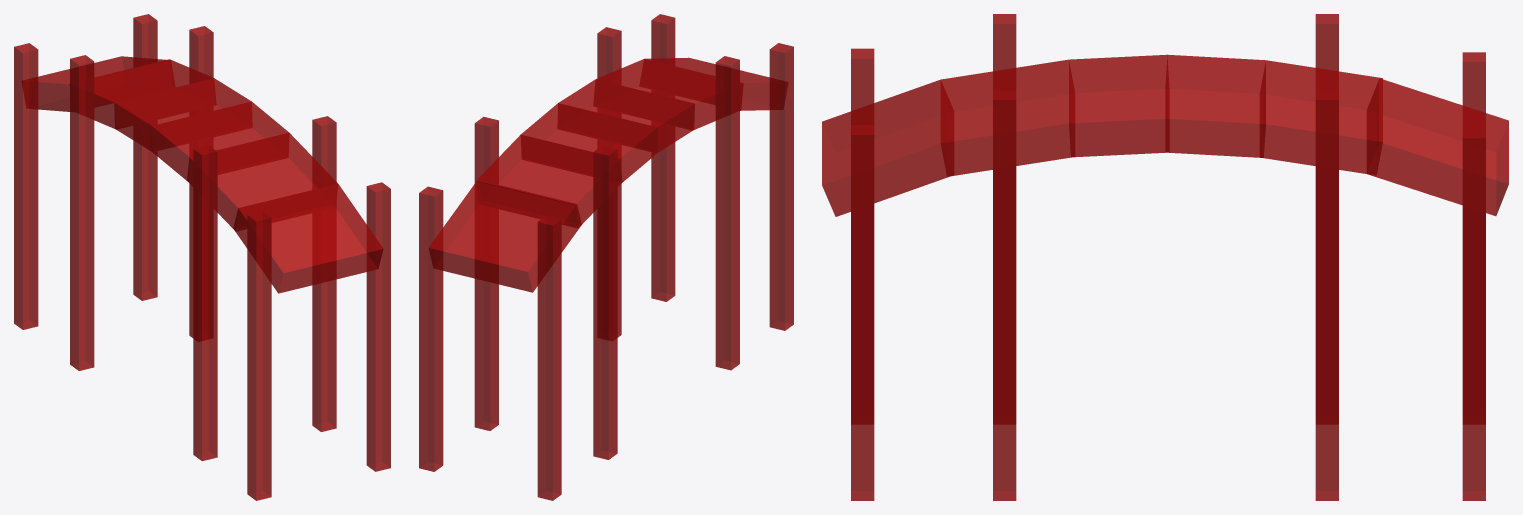
The model's file is SM_Prop_Bridge_01_Collision.fbx.
3 renders of one model, left to right at view 1: azimuth 30°, elevation 25°; view 2: azimuth 150°, elevation 25°; view 3: azimuth 270°, elevation 25°, orthographic. The views are drawn at different scales.
Parts seen in each view (by area): view 1: SM_Prop_Bridge_01_Collision; view 2: SM_Prop_Bridge_01_Collision; view 3: SM_Prop_Bridge_01_Collision.
Boxes of the visible parts, x1=… form: SM_Prop_Bridge_01_Collision: x1=14, y1=14, x2=390, y2=500; SM_Prop_Bridge_01_Collision: x1=419, y1=14, x2=793, y2=500; SM_Prop_Bridge_01_Collision: x1=822, y1=14, x2=1508, y2=500.
Size of the model in its own units: 301 by 654 by 1016.
